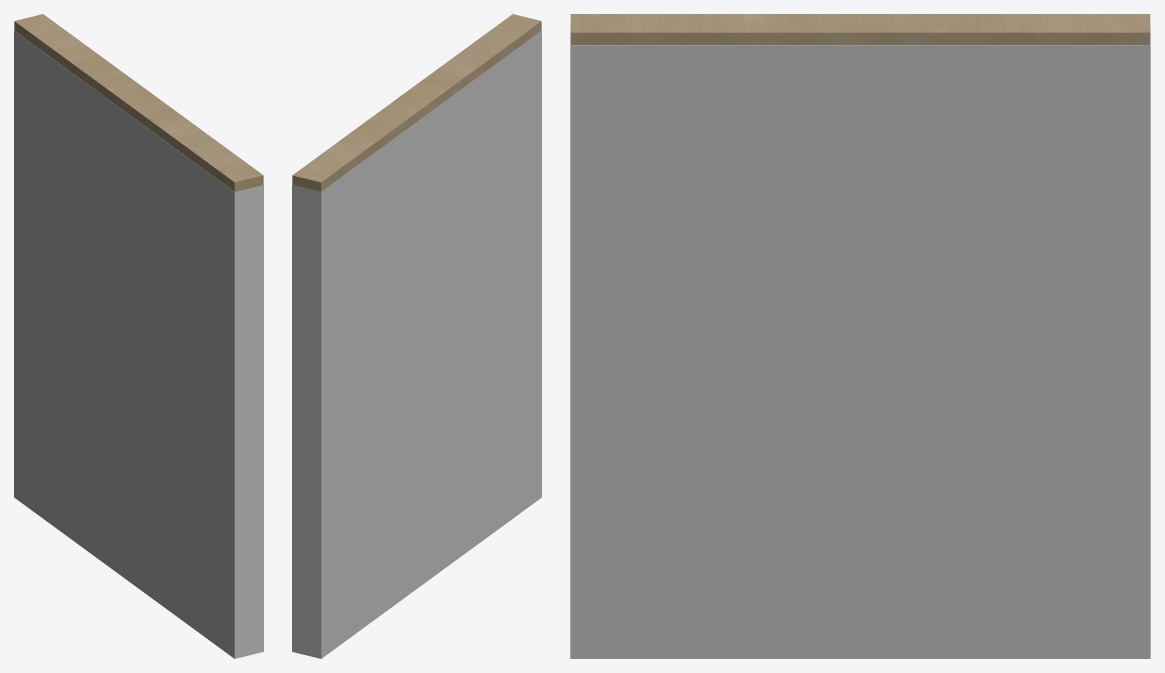
Rendered from SM_DG_InsideWallpaper01F.fbx.
The picture shows the model from 3 angles, left to right: view 1: azimuth 30°, elevation 25°; view 2: azimuth 150°, elevation 25°; view 3: azimuth 270°, elevation 25°; orthographic projection. The views are drawn at different scales.
Visible parts, largest first — view 1: SM_DG_InsideWallpaper01F_ConvexHulls, SM_DG_InsideWallpaper01F; view 2: SM_DG_InsideWallpaper01F_ConvexHulls, SM_DG_InsideWallpaper01F; view 3: SM_DG_InsideWallpaper01F_ConvexHulls, SM_DG_InsideWallpaper01F.
Boxes of the visible parts, box(x1,y1,x2,y2) form: SM_DG_InsideWallpaper01F_ConvexHulls: box(14, 30, 263, 658); SM_DG_InsideWallpaper01F: box(14, 14, 263, 191); SM_DG_InsideWallpaper01F_ConvexHulls: box(292, 30, 541, 658); SM_DG_InsideWallpaper01F: box(292, 14, 541, 191); SM_DG_InsideWallpaper01F_ConvexHulls: box(570, 26, 1150, 658); SM_DG_InsideWallpaper01F: box(570, 14, 1150, 44).
Bounding box in the file's own units: 18.88 × 247 × 294.
